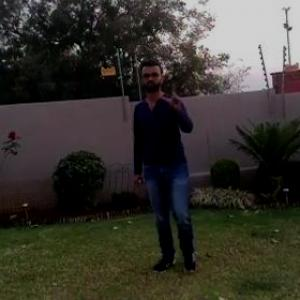land_hand: (160, 74, 190, 111)
